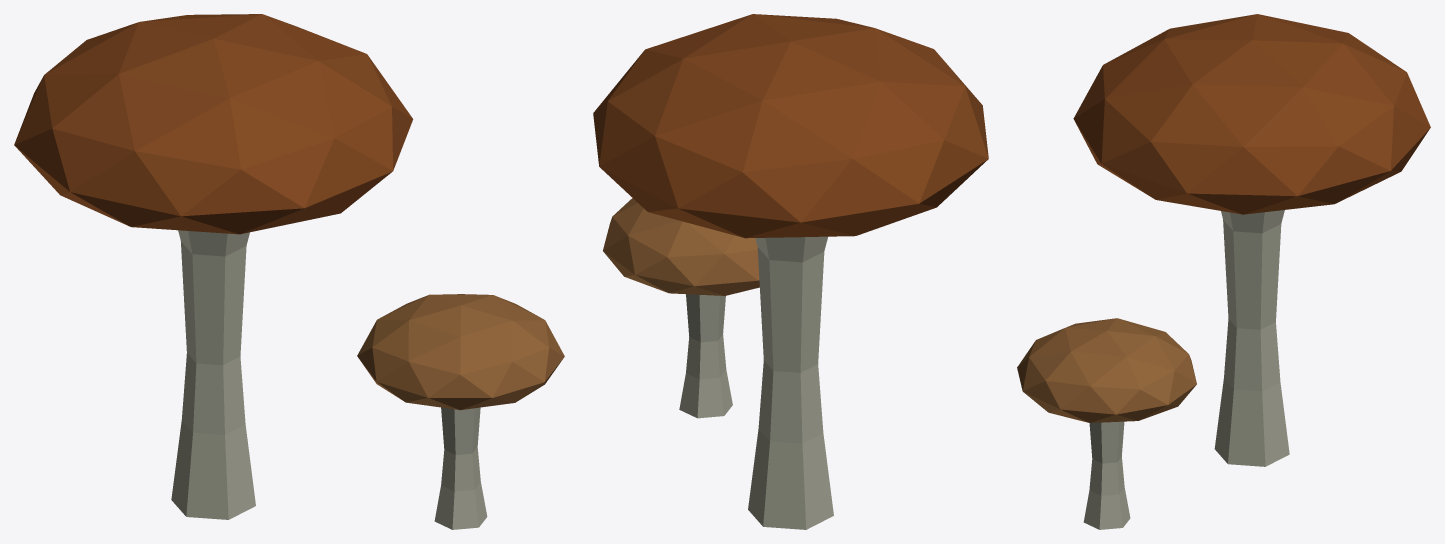
Rendered from NHP_Mushroom_A1_02.fbx.
3 renders of one model, left to right at view 1: azimuth 30°, elevation 25°; view 2: azimuth 150°, elevation 25°; view 3: azimuth 270°, elevation 25°, orthographic. The views are drawn at different scales.
Visible parts, largest first — view 1: NHP_Mushroom_A1_02_LOD0; view 2: NHP_Mushroom_A1_02_LOD0; view 3: NHP_Mushroom_A1_02_LOD0.
Boxes of the visible parts, x1,y1,x2,y2 form: NHP_Mushroom_A1_02_LOD0: (14,14,564,529); NHP_Mushroom_A1_02_LOD0: (593,14,988,529); NHP_Mushroom_A1_02_LOD0: (1017,14,1430,529).
Size of what is drawn, in the model's own units: 0.359 by 0.3754 by 0.3422.
